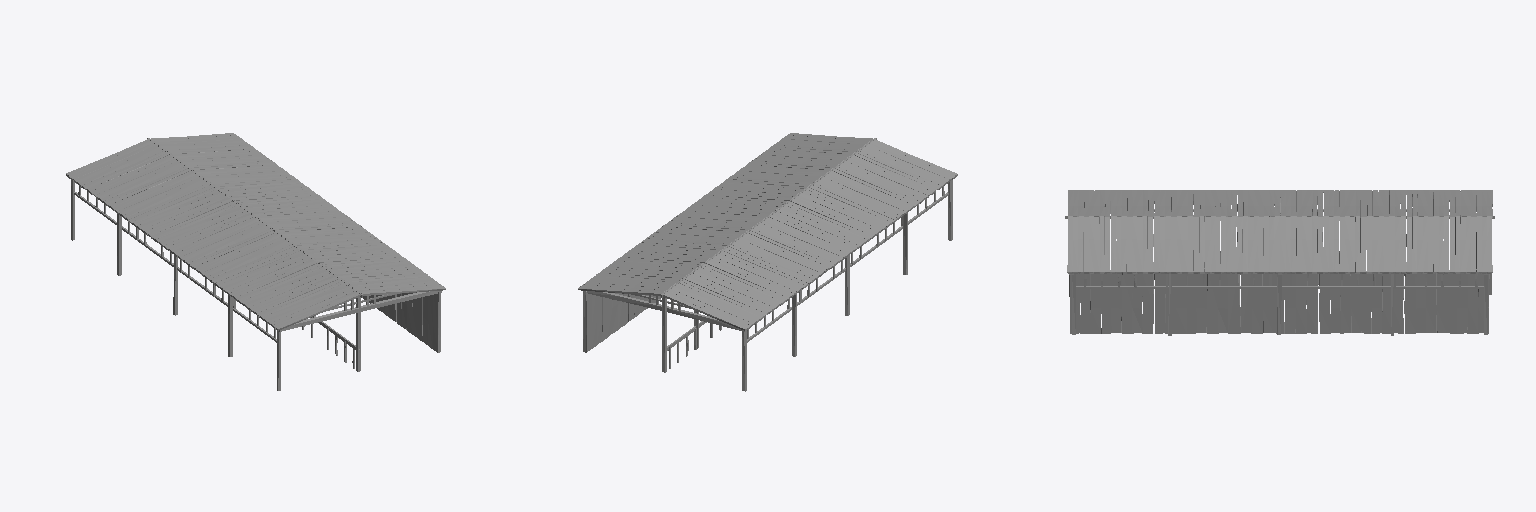
File: barn.obj
The picture shows the model from 3 angles: view 1: azimuth 30°, elevation 25°; view 2: azimuth 150°, elevation 25°; view 3: azimuth 270°, elevation 25°; orthographic projection.
Parts seen in each view (by area): view 1: Circle.003_Circle.011; view 2: Circle.003_Circle.011; view 3: Circle.003_Circle.011.
Boxes of the visible parts, box(x1,y1,x2,y2) form: Circle.003_Circle.011: box(66, 133, 445, 390); Circle.003_Circle.011: box(578, 133, 957, 391); Circle.003_Circle.011: box(1065, 190, 1494, 335).
Size of the model in its own units: 15.83 by 7.15 by 34.99.